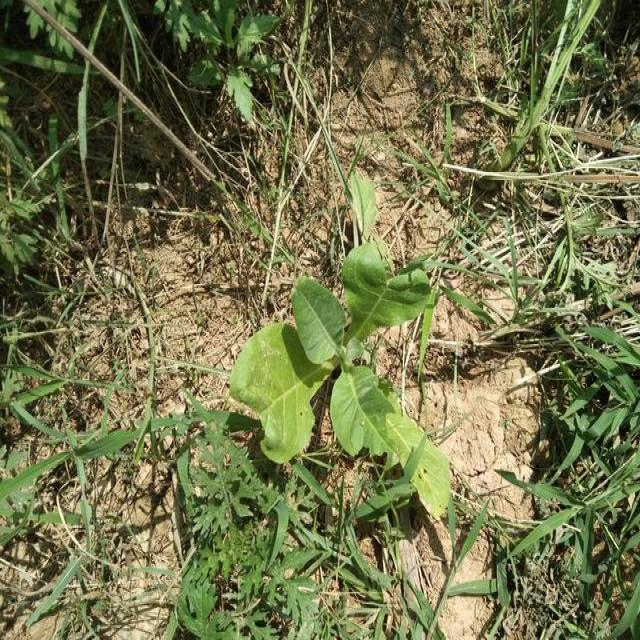crop: (228, 204, 457, 521)
